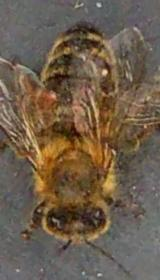varroa_mite: (32, 84, 60, 120)
